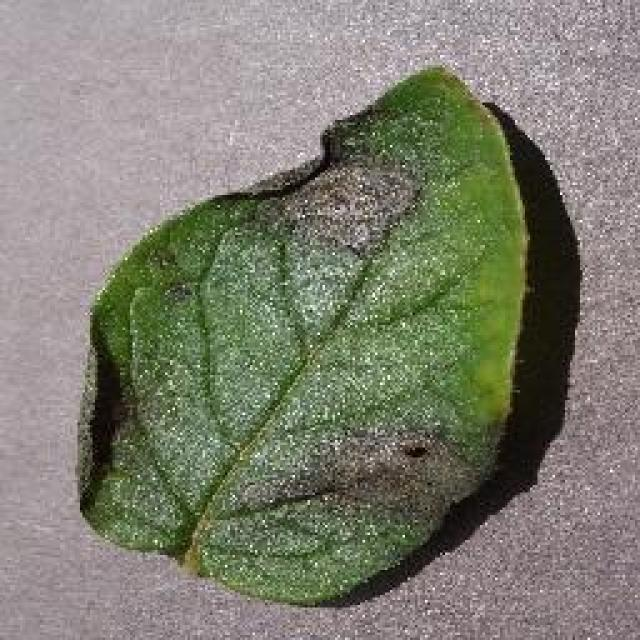late_blight: (70, 60, 532, 608)
